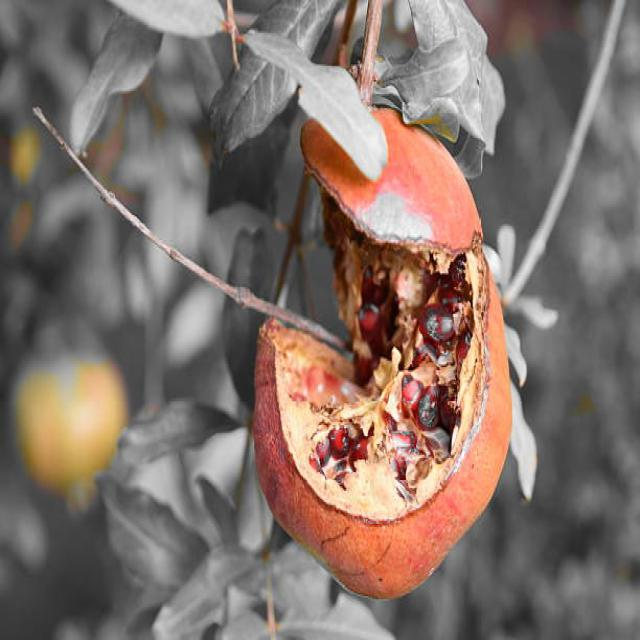overripe: (245, 114, 516, 606)
